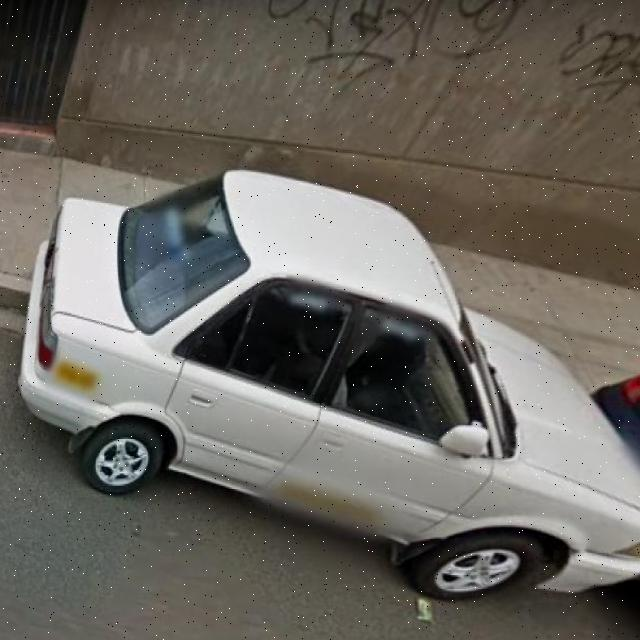car: (22, 170, 640, 607)
